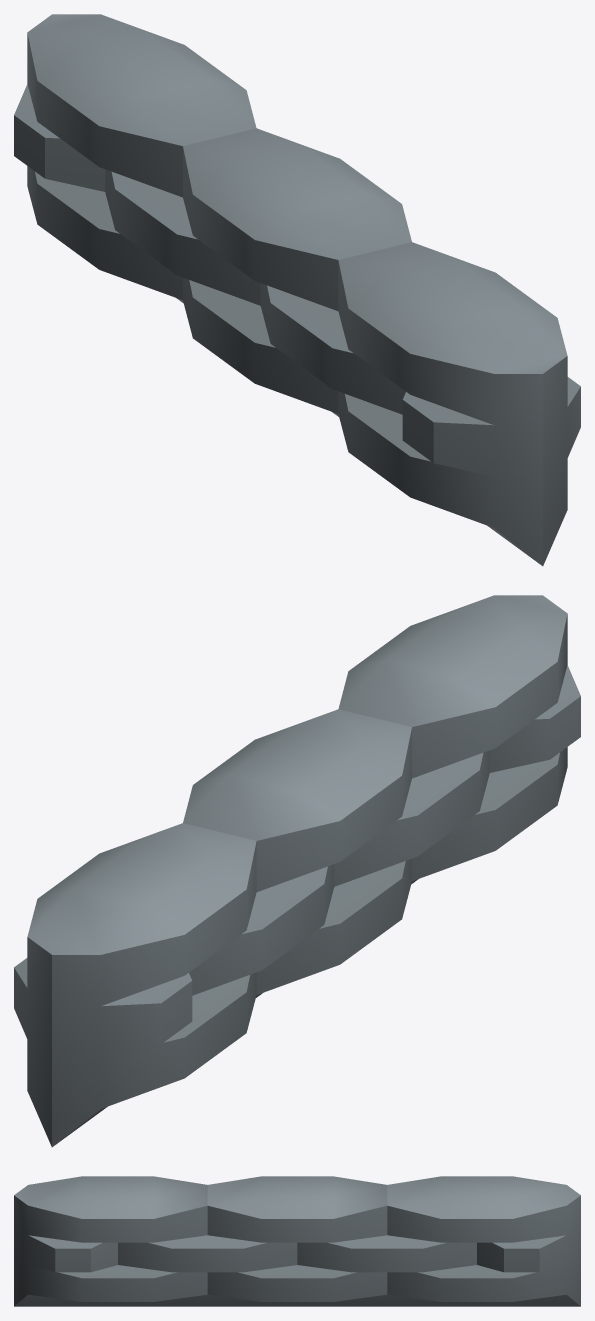
File: fence_stone.glb
3 views of the same model, one above another, from view 1: azimuth 30°, elevation 25°; view 2: azimuth 150°, elevation 25°; view 3: azimuth 270°, elevation 25° (orthographic). The views are drawn at different scales.
Visible parts, largest first — view 1: fence_stone; view 2: fence_stone; view 3: fence_stone.
Boxes of the visible parts, x1,y1,x2,y2 form: fence_stone: (14,14,580,566); fence_stone: (14,595,580,1147); fence_stone: (14,1176,580,1306).
Bounding box in the file's own units: 0.1 × 0.1345 × 0.5774.
1 material, 1 textured.
